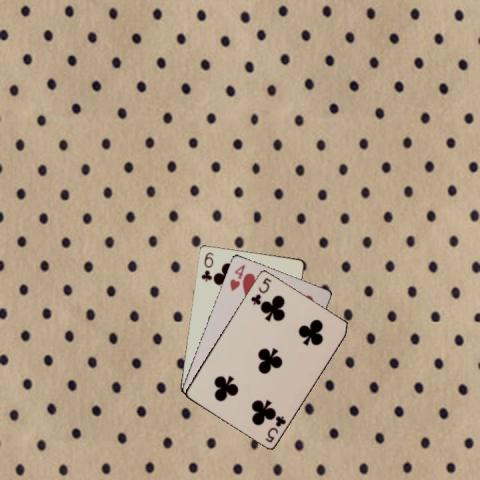4h: (227, 261, 246, 293)
5c: (247, 275, 273, 306), (262, 413, 287, 444)
6c: (198, 249, 215, 283)
